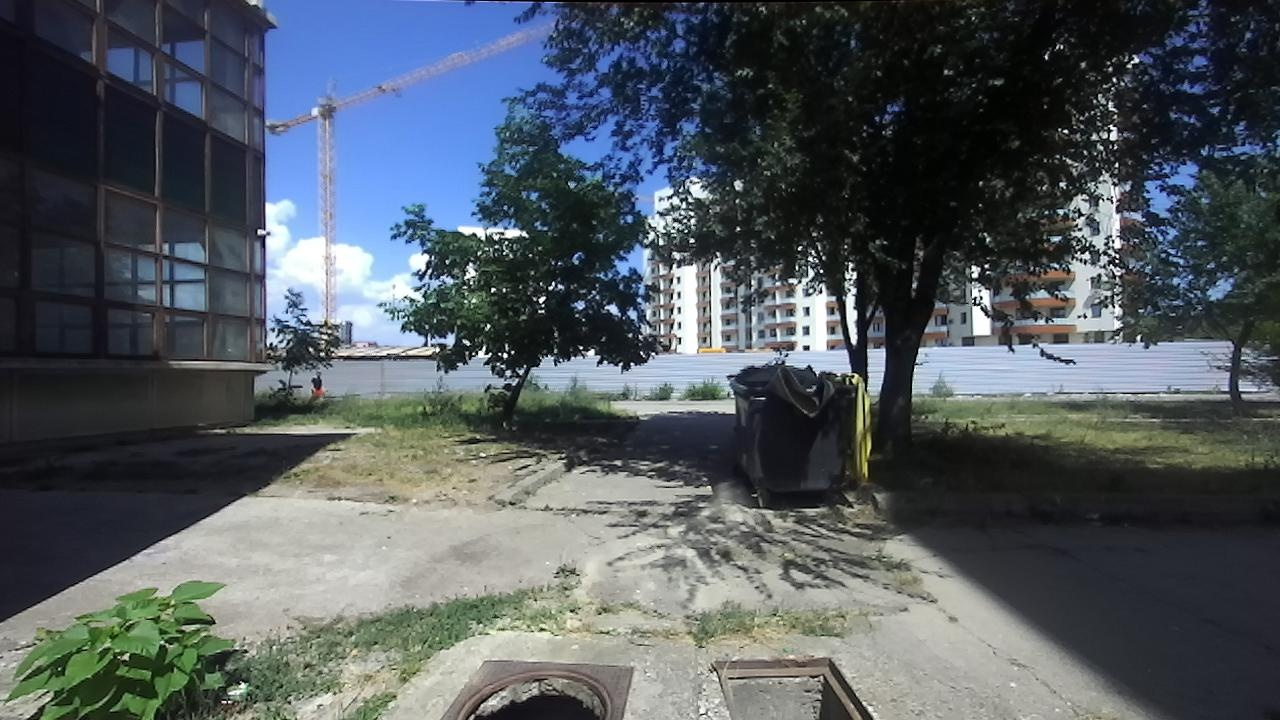drain: (709, 654, 876, 720), (447, 667, 614, 719)
